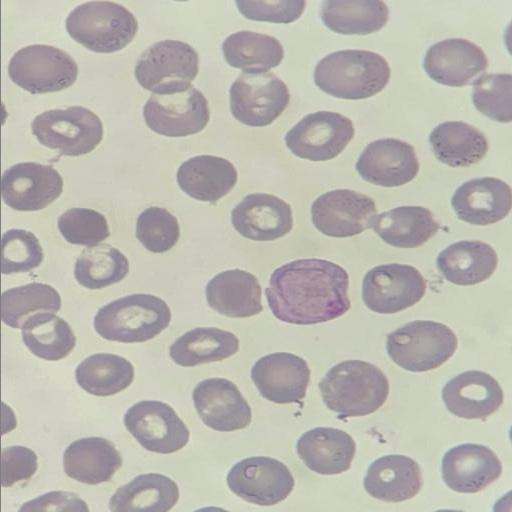Infected: (267, 257, 350, 324)
Uninfected: (318, 358, 388, 417), (230, 62, 287, 129), (94, 294, 169, 343), (123, 399, 189, 454), (314, 49, 388, 98), (386, 319, 454, 371), (66, 1, 135, 52), (8, 43, 77, 93), (32, 106, 101, 155), (226, 455, 292, 506), (136, 38, 198, 90), (310, 188, 375, 237), (191, 378, 251, 431), (285, 112, 351, 160), (361, 264, 425, 313), (143, 89, 208, 137), (441, 369, 503, 419), (230, 192, 293, 241), (355, 137, 418, 186), (251, 352, 309, 404), (440, 443, 499, 494), (424, 37, 486, 84), (177, 153, 236, 202), (450, 176, 510, 224), (1, 161, 61, 209), (204, 269, 263, 317), (371, 205, 440, 246), (1, 281, 61, 328), (363, 454, 422, 501), (436, 239, 496, 285), (170, 326, 238, 366), (63, 436, 119, 484), (296, 427, 353, 474), (428, 120, 486, 166), (111, 473, 178, 512), (20, 314, 75, 360), (75, 352, 132, 396), (222, 30, 283, 70), (73, 245, 128, 289), (321, 0, 387, 34), (56, 206, 109, 245), (135, 206, 180, 251), (1, 227, 43, 272), (472, 74, 511, 121)
